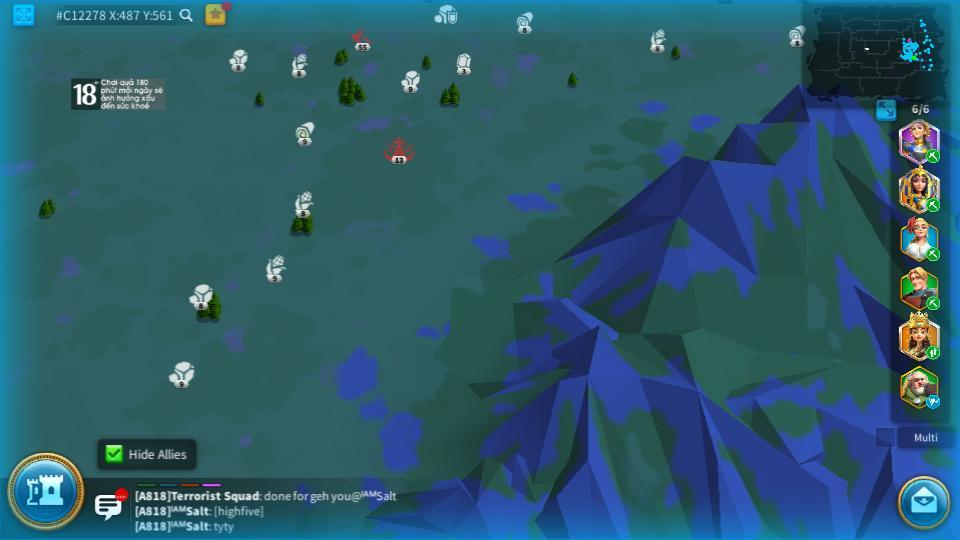gem-z-out: (453, 53, 472, 73)
march_idle: (925, 396, 941, 408)
march_marching: (925, 197, 941, 212), (924, 345, 939, 359), (925, 149, 941, 162), (926, 297, 941, 308)
